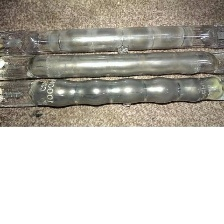light_bulb: (0, 22, 224, 61), (0, 48, 224, 82), (0, 76, 224, 106)
